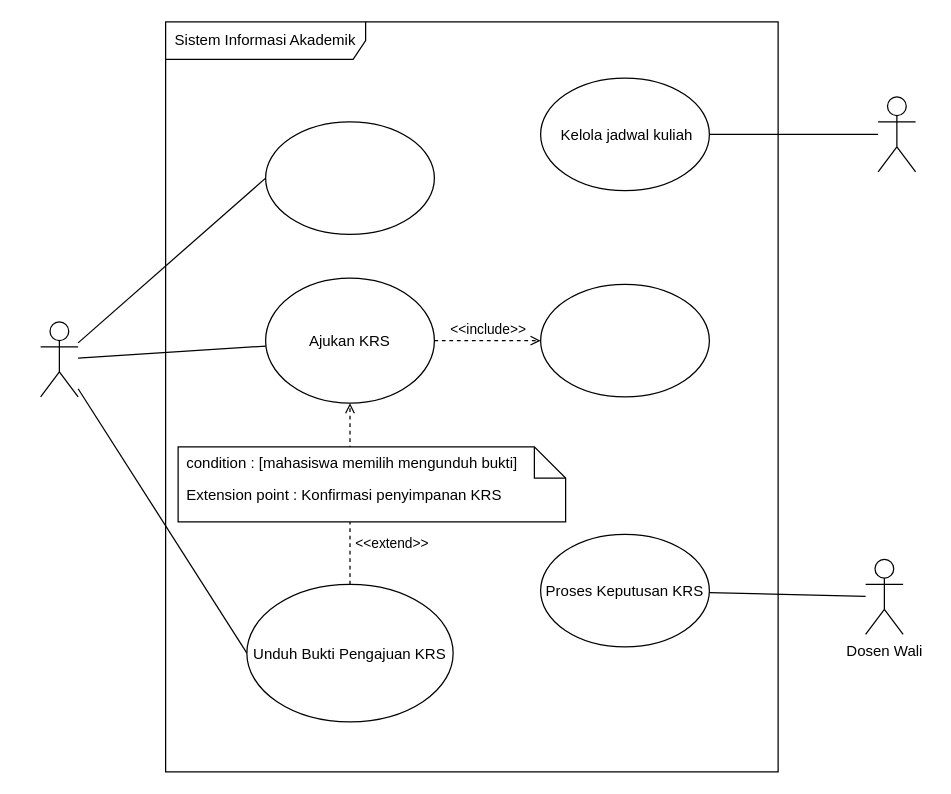
The diagram is 951 pixels wide and 794 high, and some of its shapes have lost their labels. Each missing label, with the centre of its shape:
"Admin Akademik" belongs at point 896,134.
"Lihat Jadwal Kuliah" belongs at point 349,177.
"Mahasiswa" belongs at point 58,359.
"Validasi KRS" belongs at point 624,340.
